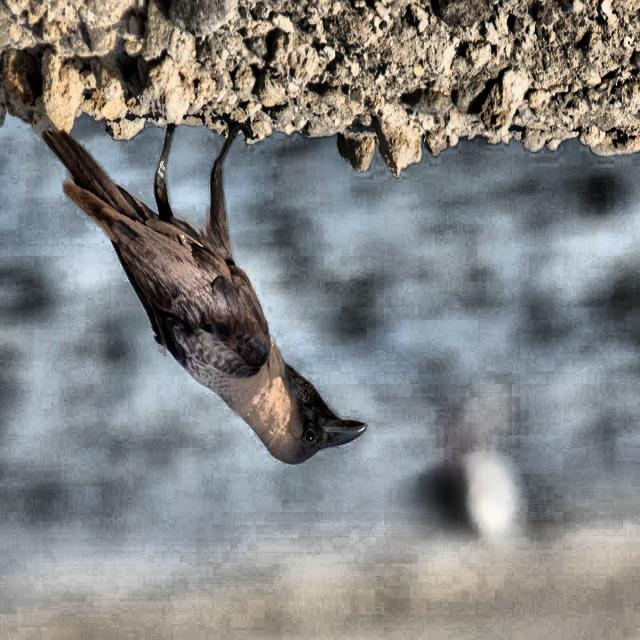crow: (32, 109, 374, 532)
